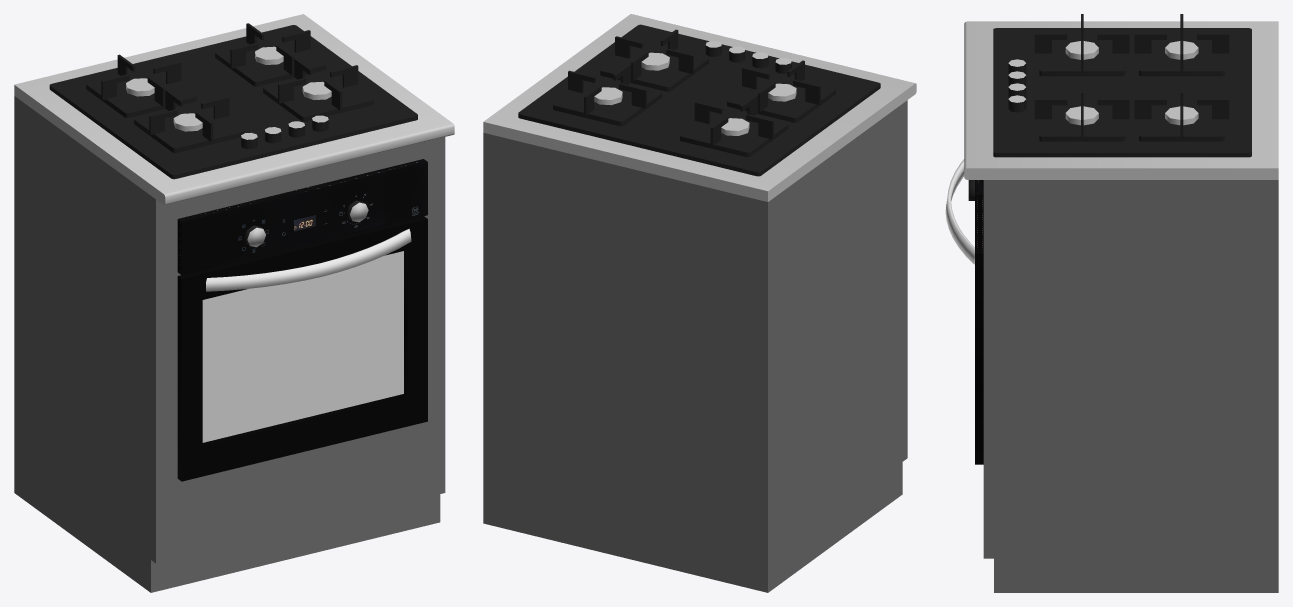
File: Hood.fbx
The picture shows the model from 3 angles, left to right: view 1: azimuth 30°, elevation 25°; view 2: azimuth 150°, elevation 25°; view 3: azimuth 270°, elevation 25°; orthographic projection. The views are drawn at different scales.
Visible parts, largest first — view 1: Cube, Box003.003, Box003.007; view 2: Cube; view 3: Cube, Box003.003.
Part boxes in pixels (x1,y1,x2,y2): Cube: (14, 14, 454, 592); Box003.003: (177, 159, 427, 481); Box003.007: (202, 251, 403, 442); Cube: (483, 14, 916, 592); Cube: (964, 14, 1278, 592); Box003.003: (945, 159, 983, 464).
Size of the model in its own units: 69.73 by 100 by 66.8.
Materials: 7 (1 with a texture image).
